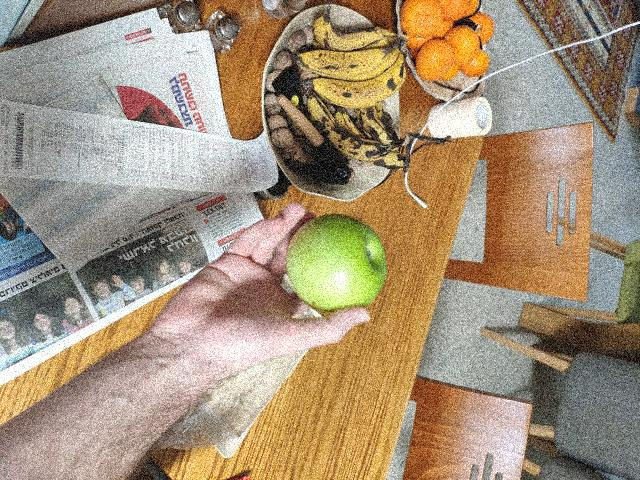apple: (290, 224, 385, 314)
